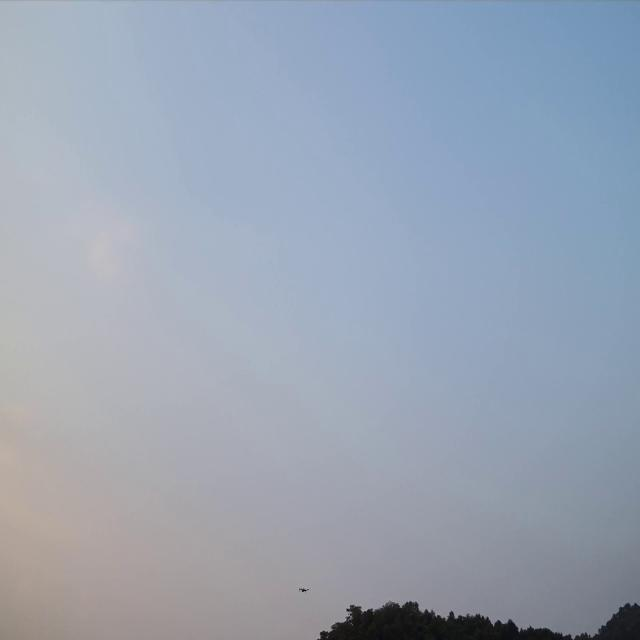UAV: (296, 584, 310, 594)
